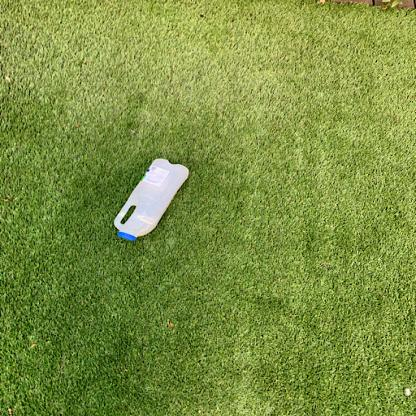trash: (114, 156, 192, 244)
